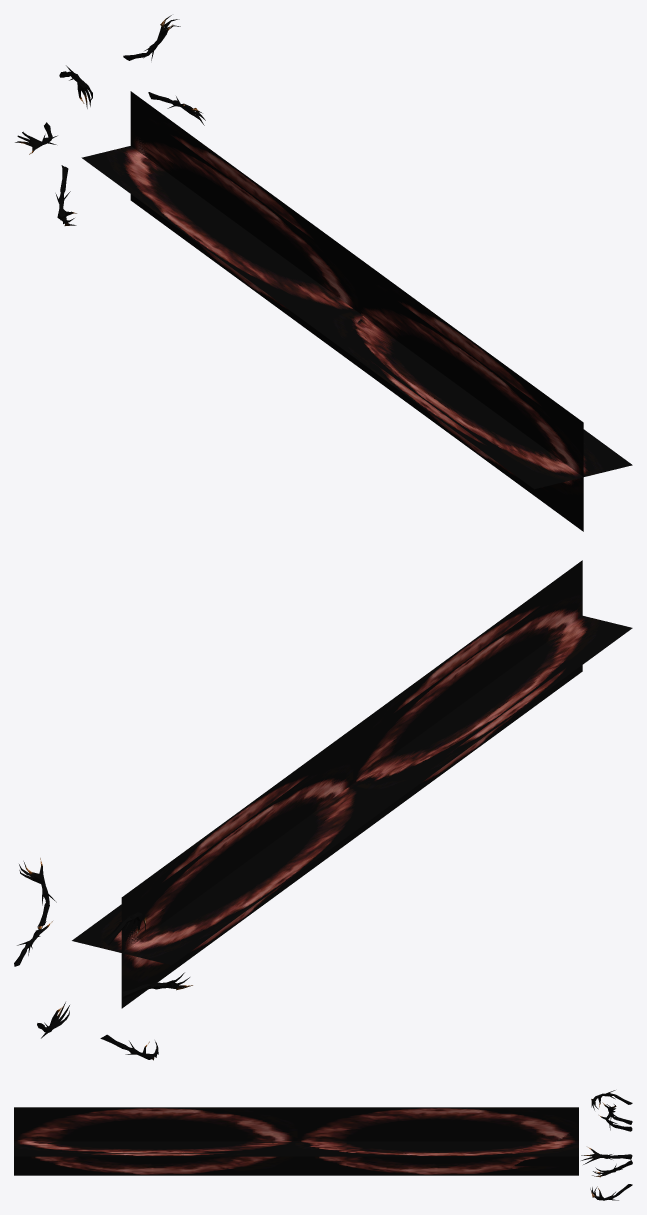
The model's file is tx_summon_xiuluodiyu_fire.obj.
3 renders of one model, top to bottom at view 1: azimuth 30°, elevation 25°; view 2: azimuth 150°, elevation 25°; view 3: azimuth 270°, elevation 25°, orthographic. The views are drawn at different scales.
Visible parts, largest first — view 1: Plane25, Plane24, Plane23, Plane26; view 2: Plane25, Plane24, Plane23, Plane26; view 3: Plane23, Plane24, Plane26, Plane25, hand75, hand37, hand94, hand113.
Boxes of the visible parts, x1,y1,x2,y2 form: Plane25: (130,106,583,516); Plane24: (81,146,632,489); Plane23: (130,91,583,531); Plane26: (342,316,623,486); Plane25: (121,575,582,955); Plane24: (72,626,632,965); Plane23: (121,560,582,1008); Plane26: (352,616,623,785); Plane23: (14,1107,578,1175); Plane24: (14,1141,578,1156); Plane26: (14,1141,326,1153); Plane25: (513,1128,578,1166); hand75: (581,1147,632,1164); hand37: (591,1090,632,1110); hand94: (590,1184,632,1200); hand113: (592,1160,632,1177).
Size of the model in its own units: 141 by 139 by 710.
Materials: 2 (2 with a texture image).
